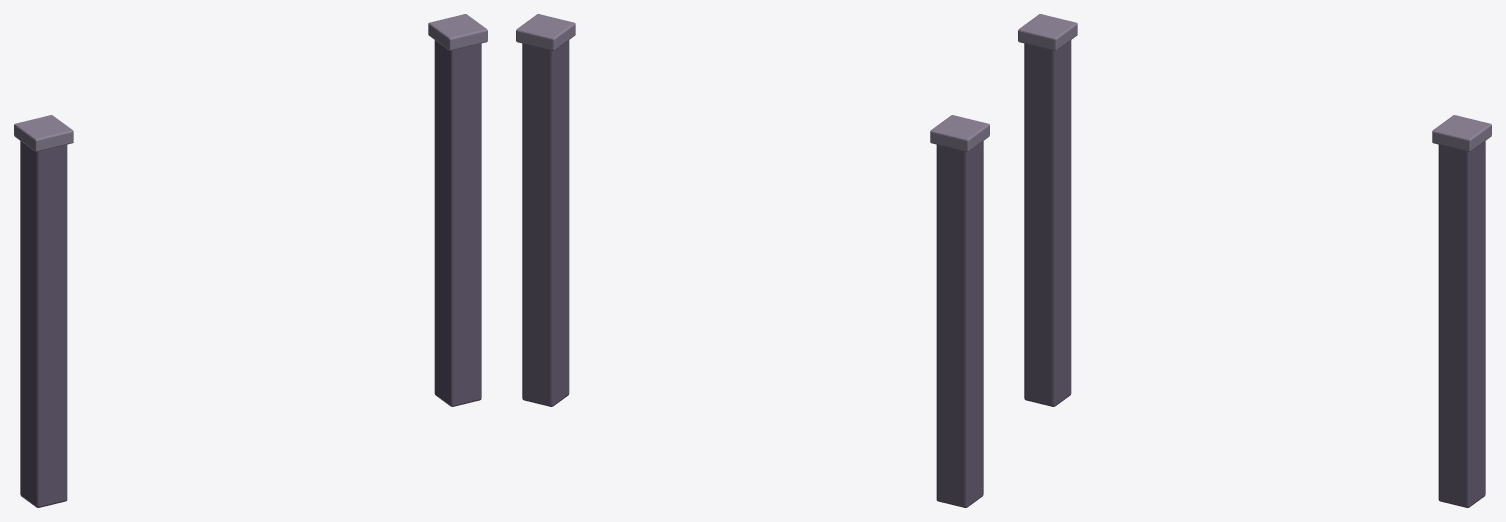
The model's file is BannerPosts.fbx.
3 views of the same model, side by side, from view 1: azimuth 30°, elevation 25°; view 2: azimuth 150°, elevation 25°; view 3: azimuth 330°, elevation 25° (orthographic).
Visible parts, largest first — view 1: BannerPost-1.001; view 2: BannerPost-1.001; view 3: BannerPost-1.001.
Boxes of the visible parts, box(x1,y1,x2,y2) form: BannerPost-1.001: box(14, 14, 487, 507); BannerPost-1.001: box(516, 14, 989, 507); BannerPost-1.001: box(1018, 14, 1491, 507).
Size of the model in its own units: 6560 by 5150 by 560.
